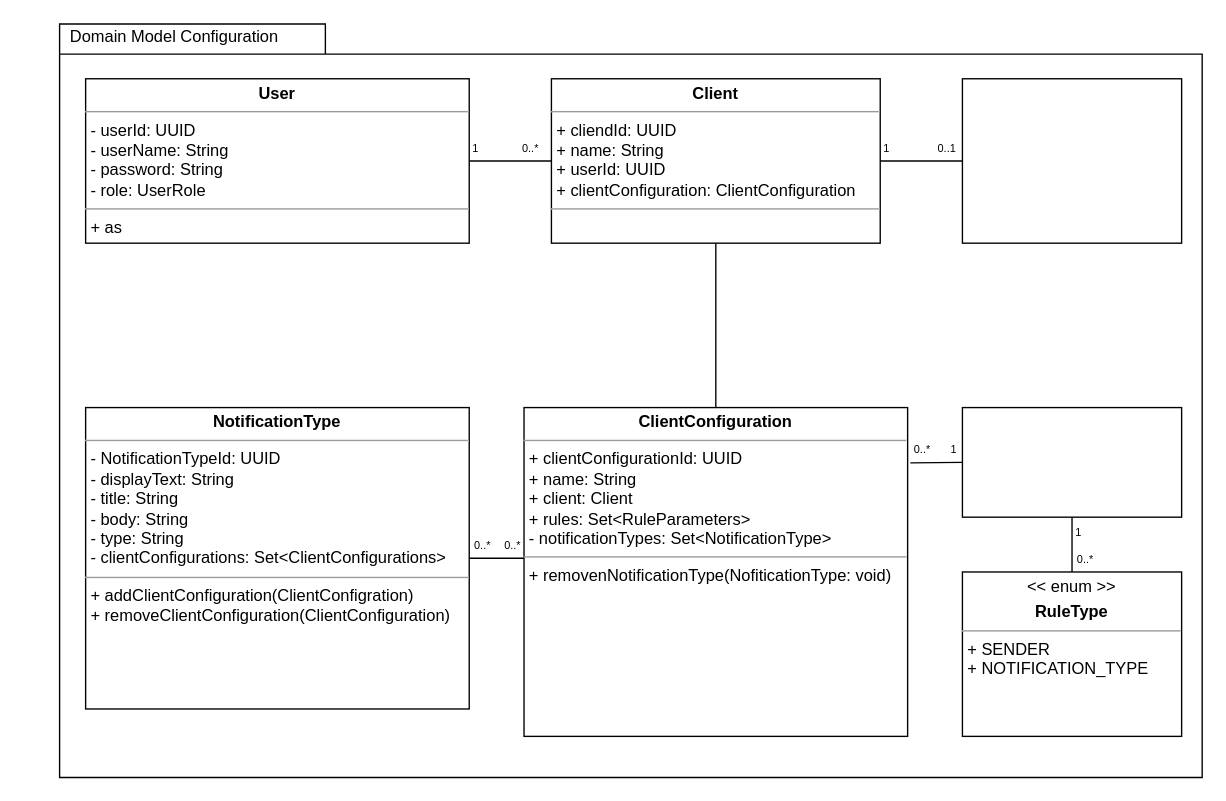
This 1226x801 diagram has some shape labels left out. The centre of each missing label's shape, as x and y in pixels:
Registration - clientId: UUID - fcmToken: String: the point at 1071,160
RuleParameters + ruleParametersId: UUID + type: RuleType + value: String: the point at 1071,461
